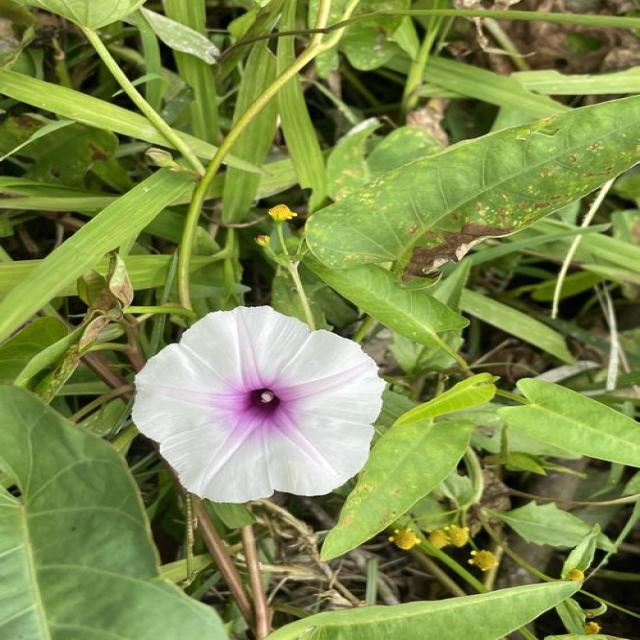ipomoea: (127, 303, 389, 507)
